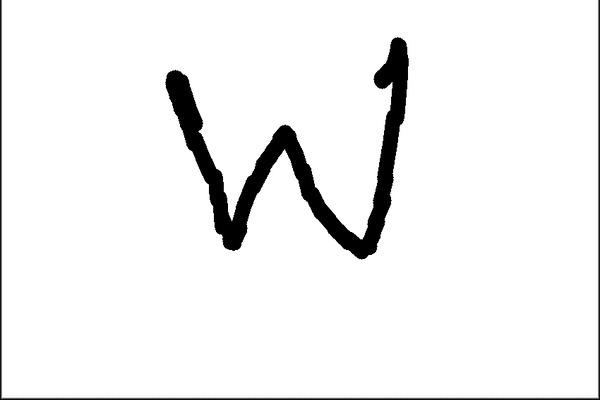w: (151, 24, 417, 273)
